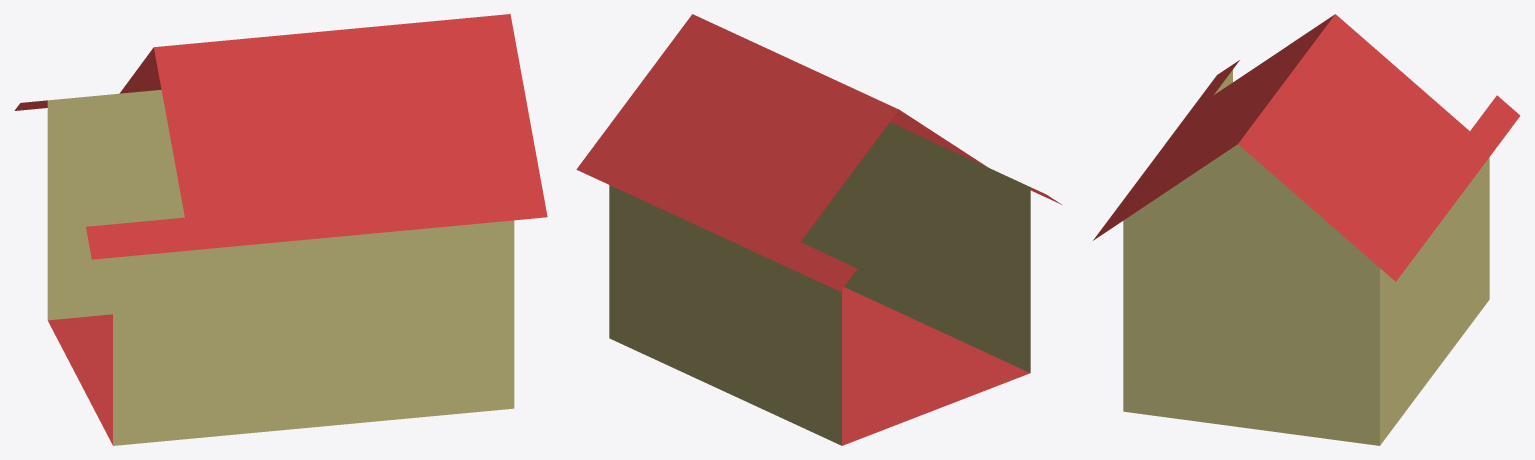
3 renders of one model, left to right at view 1: azimuth 30°, elevation 25°; view 2: azimuth 150°, elevation 25°; view 3: azimuth 270°, elevation 25°, orthographic. The views are drawn at different scales.
Size of the model in its own units: 19.82 by 17.34 by 13.13.
